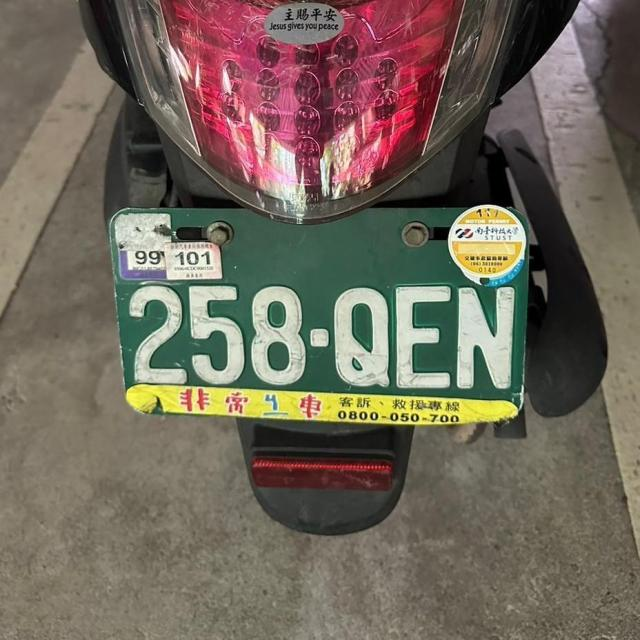GW: (102, 193, 546, 429)
